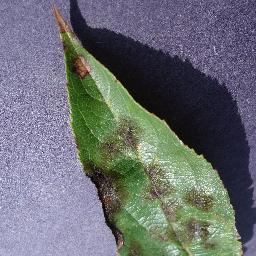apple healthy: (48, 0, 249, 255)
